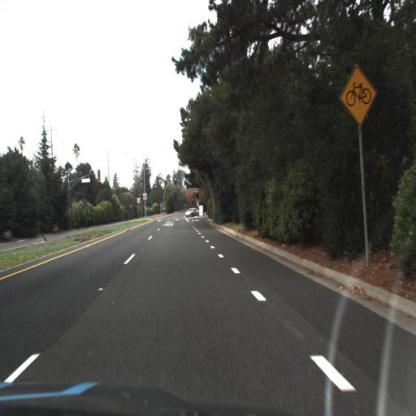car: (185, 209, 200, 221)
